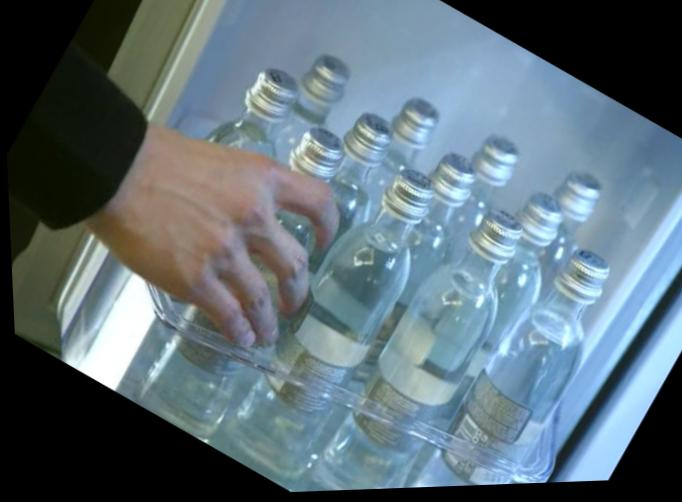glass: (202, 147, 473, 494), (285, 186, 559, 492), (367, 225, 642, 489), (438, 185, 588, 372)
